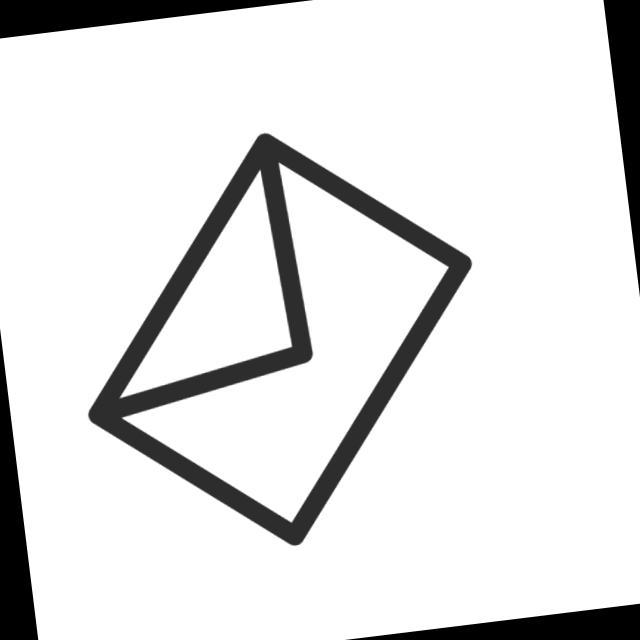letter: (51, 102, 512, 573)
